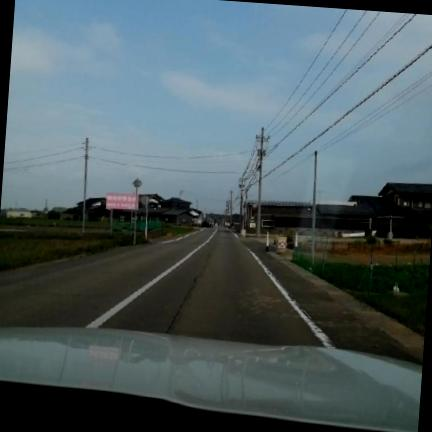Road: (0, 228, 411, 359)
